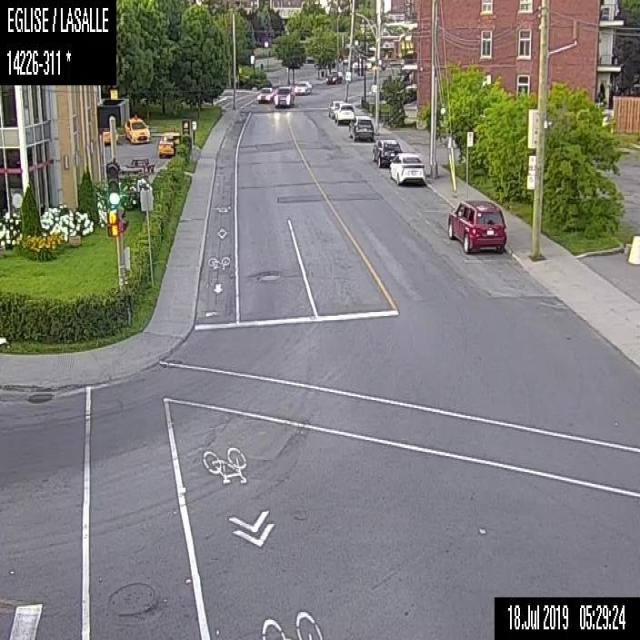vehicle: (444, 198, 507, 254), (388, 150, 425, 185), (370, 138, 400, 167), (123, 114, 150, 142), (347, 114, 373, 142), (158, 130, 180, 156), (273, 84, 294, 107), (334, 102, 355, 124), (100, 124, 117, 145), (292, 78, 313, 94), (325, 67, 342, 85), (328, 98, 344, 117), (256, 86, 275, 102)
